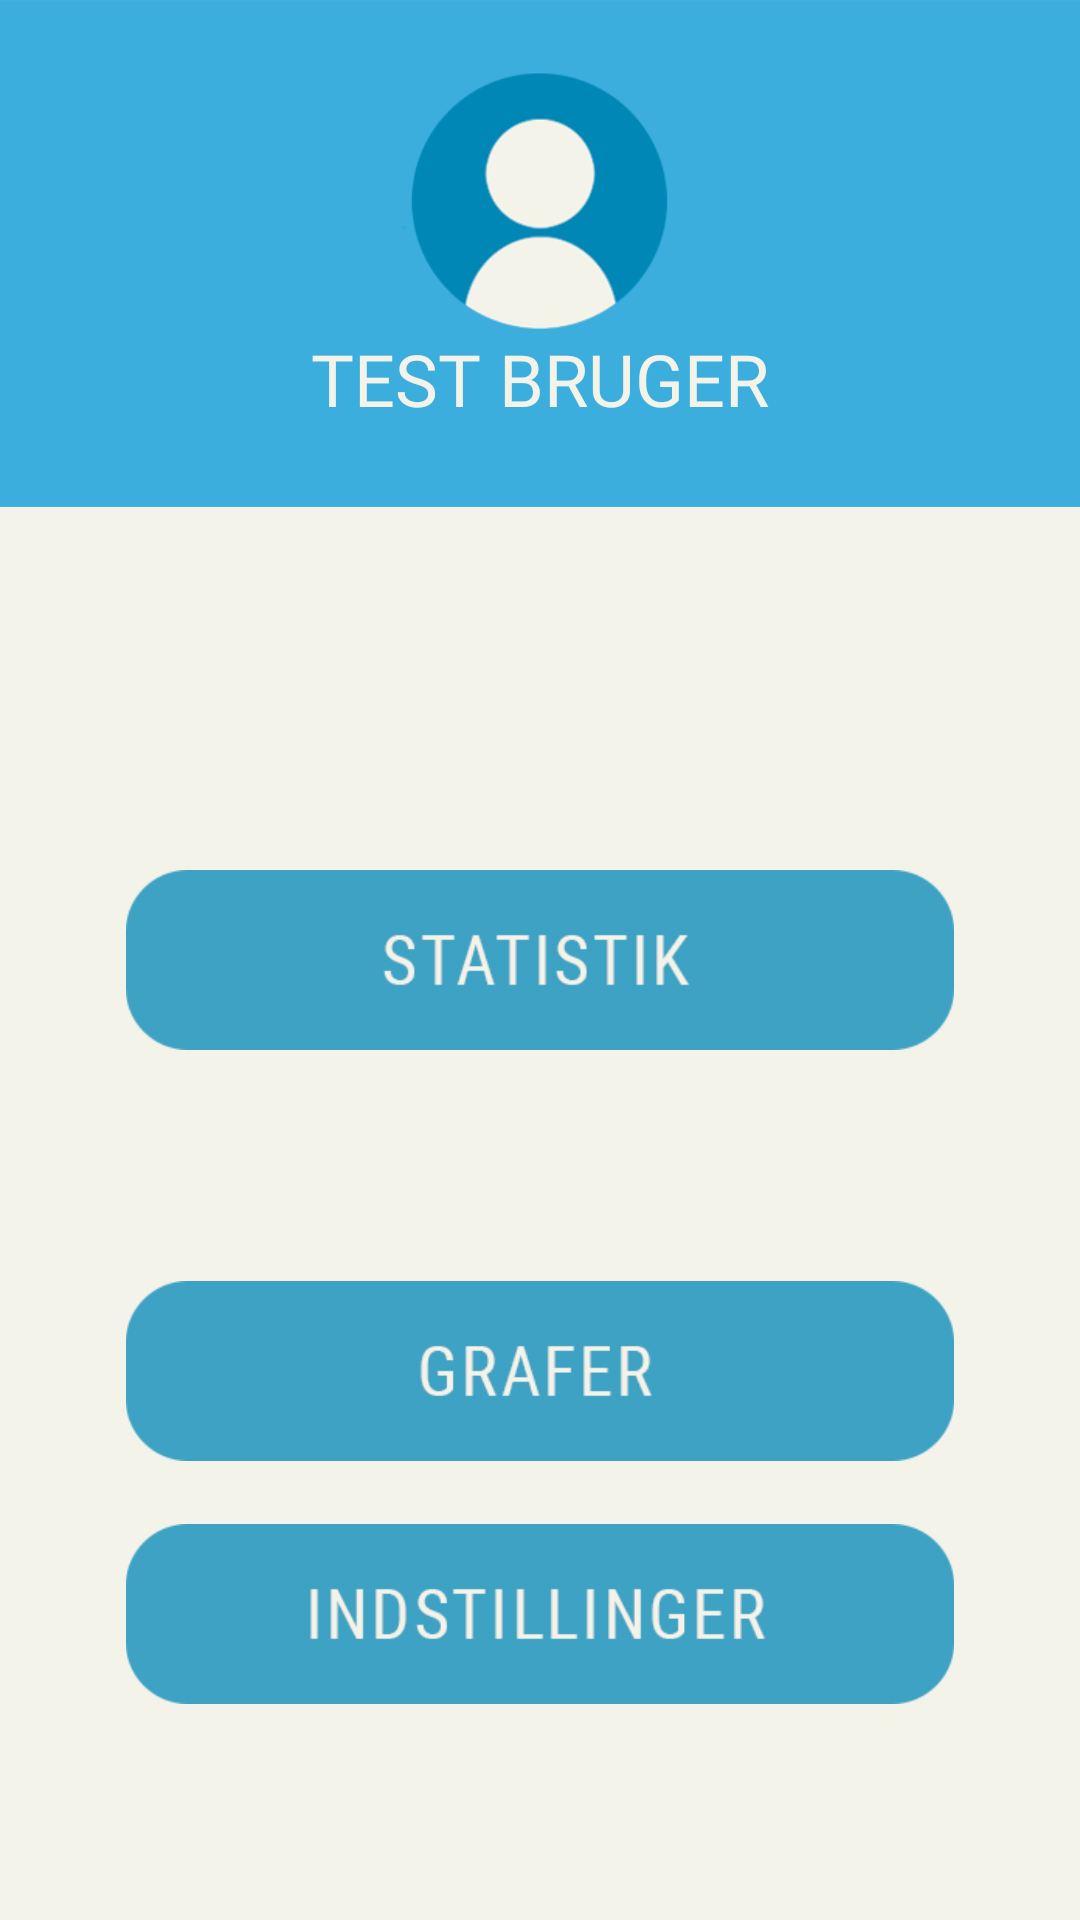

Icon click points for this 1080*1920 phone screenshot, format [x,y]:
profile portrait: [539,201]
